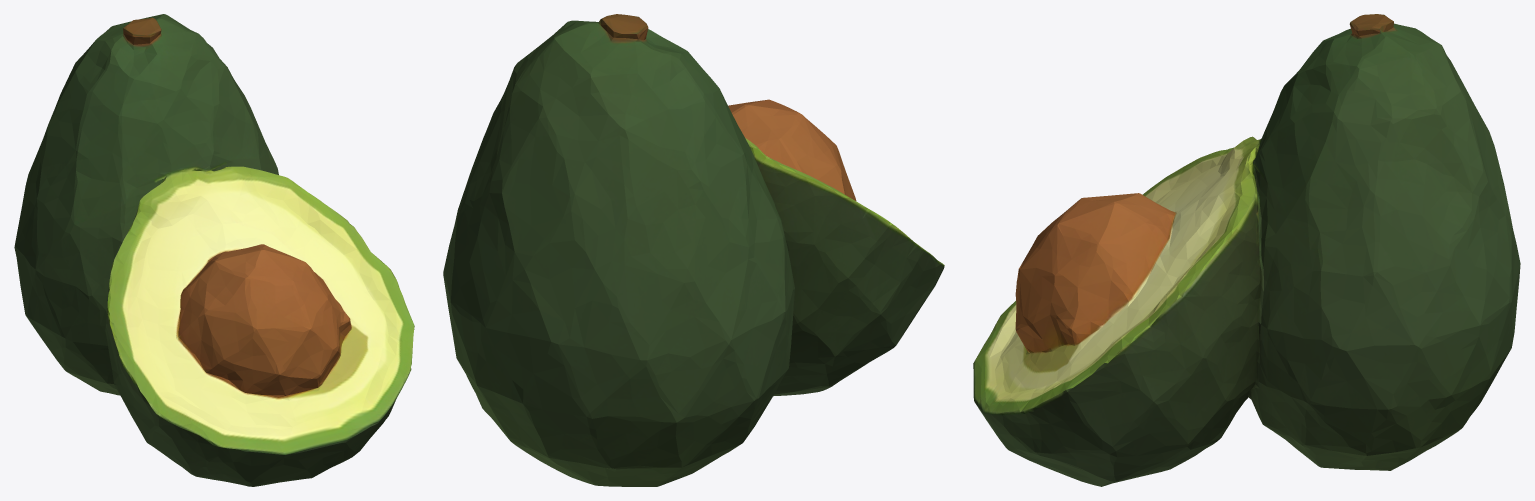
Rendered from medium-hass-avocado-636eb1.glb.
3 renders of one model, left to right at view 1: azimuth 30°, elevation 25°; view 2: azimuth 150°, elevation 25°; view 3: azimuth 270°, elevation 25°, orthographic. The views are drawn at different scales.
Parts seen in each view (by area): view 1: tmpww9zyu9_.ply; view 2: tmpww9zyu9_.ply; view 3: tmpww9zyu9_.ply.
Boxes of the visible parts, x1,y1,x2,y2 form: tmpww9zyu9_.ply: [14, 14, 414, 486]; tmpww9zyu9_.ply: [443, 14, 944, 486]; tmpww9zyu9_.ply: [973, 14, 1520, 486].
Bounding box in the file's own units: 1.37 × 1.76 × 1.99.
Materials: 1 (1 with a texture image).
